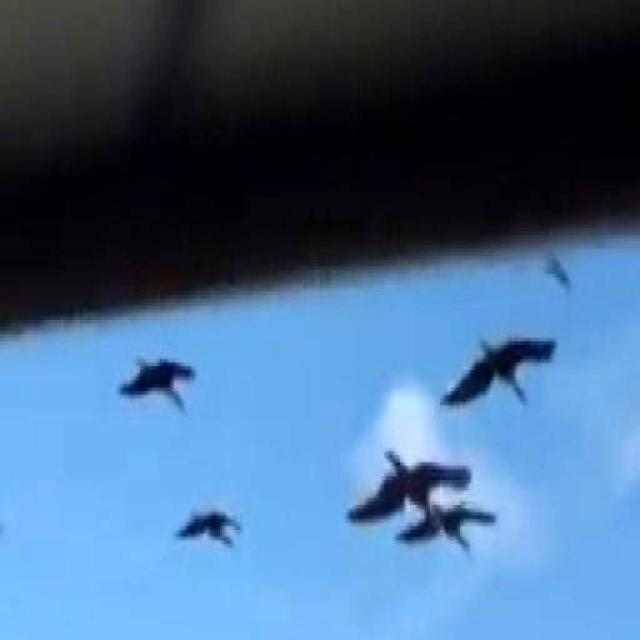airplane: (440, 318, 568, 426), (344, 436, 472, 506), (406, 490, 508, 566), (110, 341, 201, 414), (174, 496, 244, 571)
